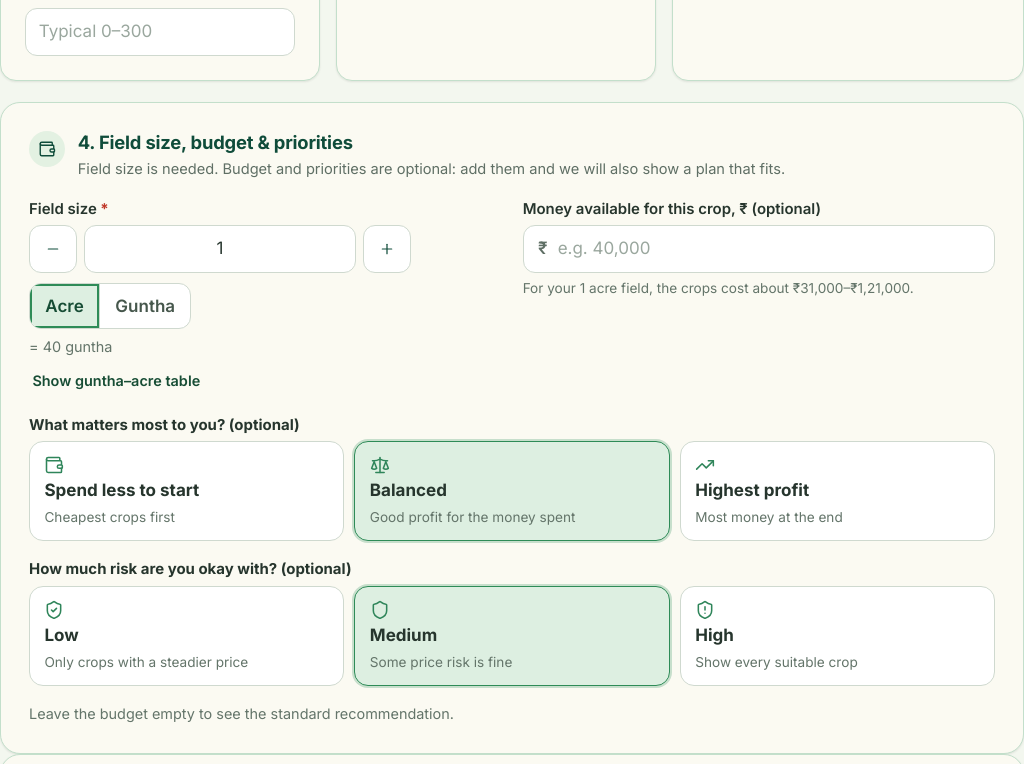
guntha-acre table › fills the input from a row, in the selected unit
(page scrolled)
expect the field labelled "Money available for this crop, ₹ (optional)" is shown: met, box [523,225,995,273]
Click the button with test id "area-table-toggle" at (116, 381), box [29,365,204,397]
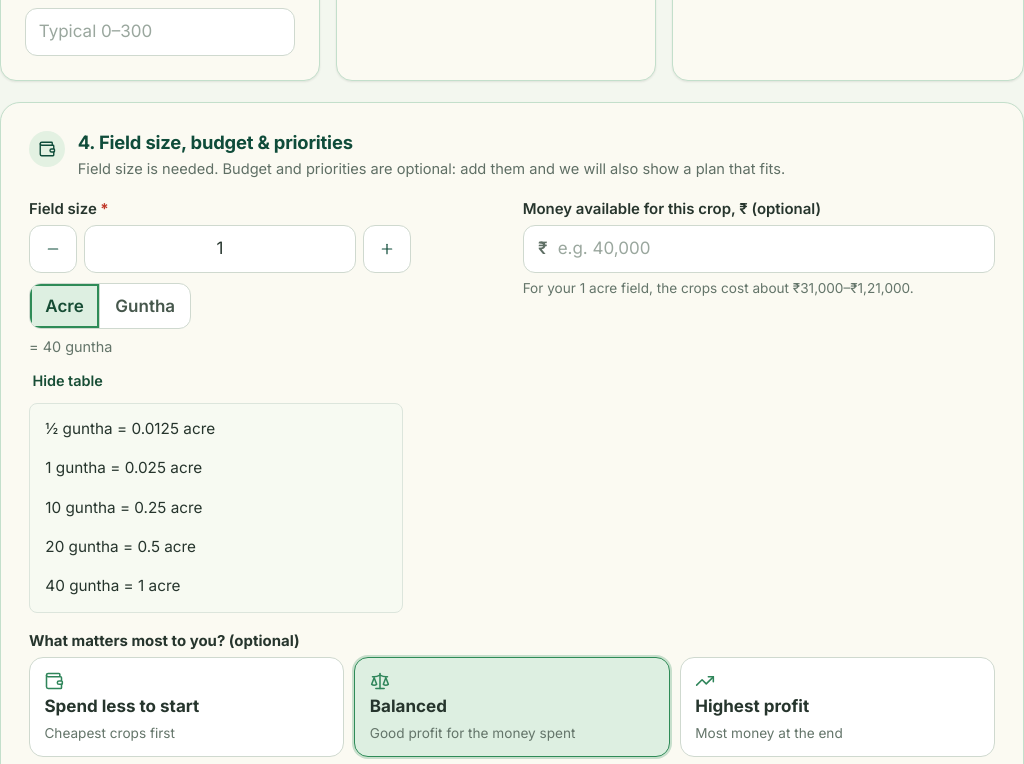
Click the button "10 guntha = 0.25 acre" at (91, 507), box [37,490,395,526]
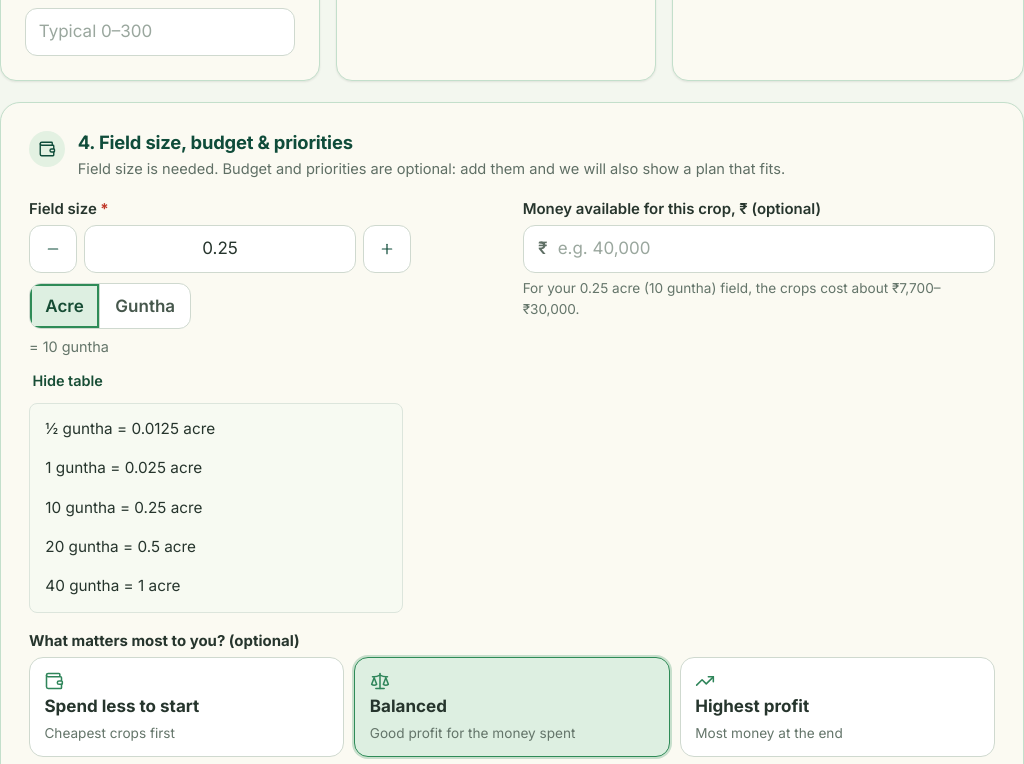
expect the field with id "area_acres" holds "0.25": met, box [84,225,356,273]
Click the radio button with test id "unit-guntha" at (145, 306), box [99,284,190,328]
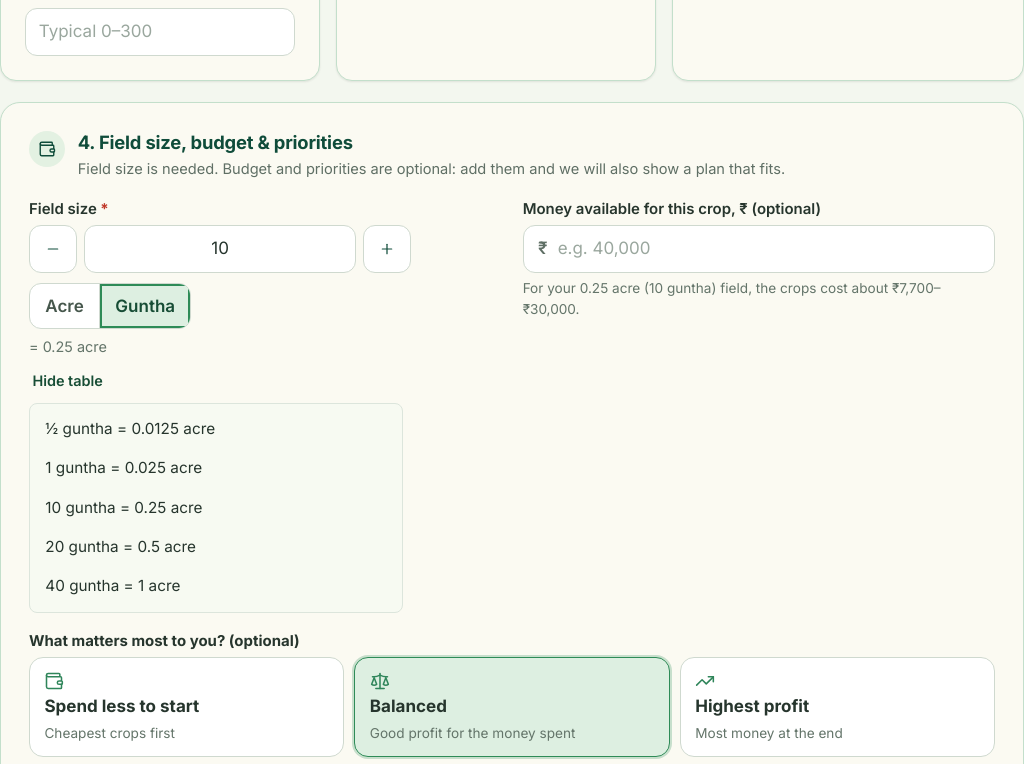
Click the button "20 guntha = 0.5 acre" at (94, 546), box [37,530,395,566]
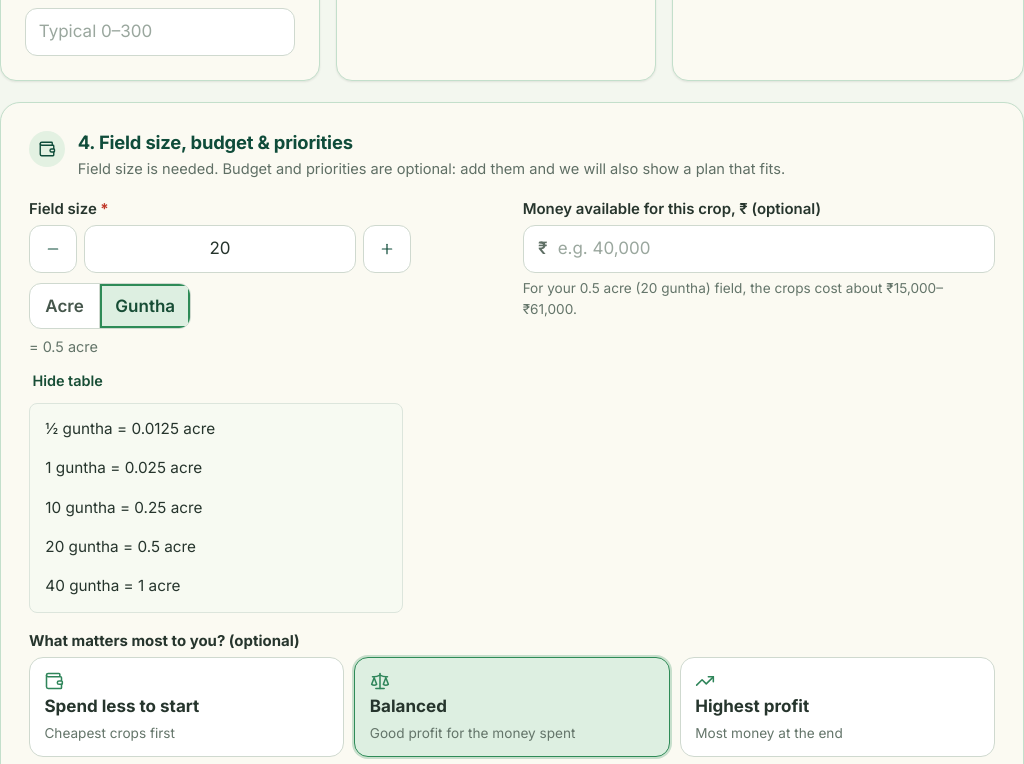
expect the field with id "area_acres" holds "20": met, box [84,225,356,273]
expect the text with test id "area-convert" reads "= 0.5 acre": met, box [29,338,98,355]
Click the button "½ guntha = 0.0125 acre" at (216, 429), box [37,411,395,447]
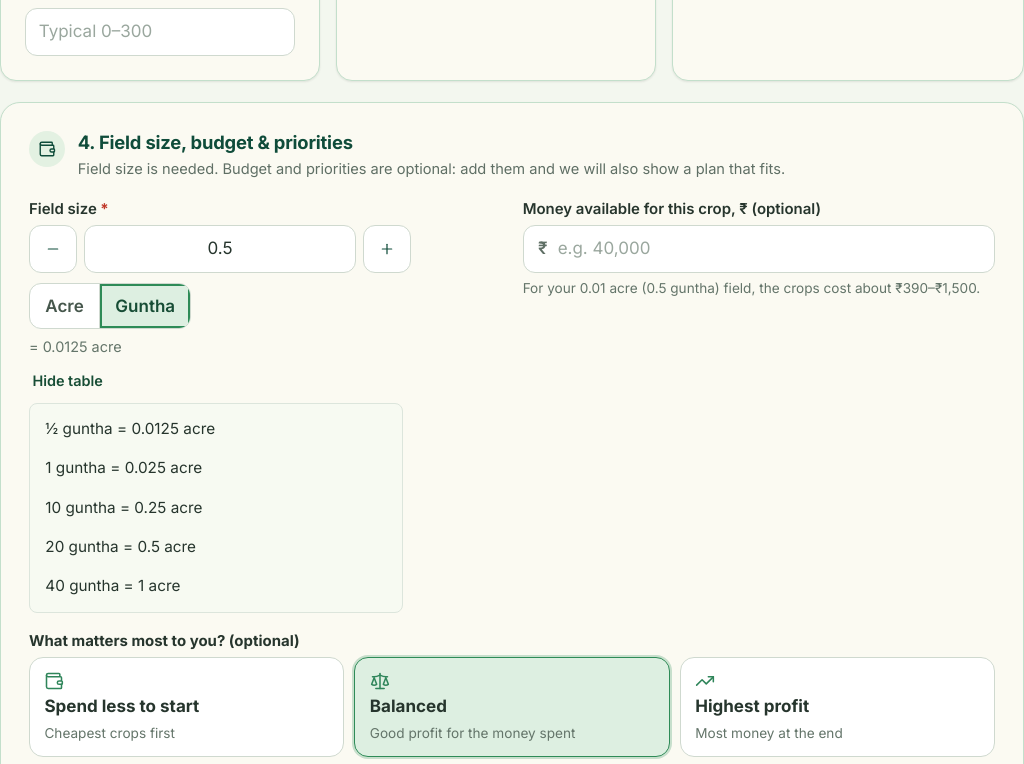
expect the field with id "area_acres" holds "0.5": met, box [84,225,356,273]
expect the text with test id "area-convert" reads "= 0.0125 acre": met, box [29,338,122,355]
